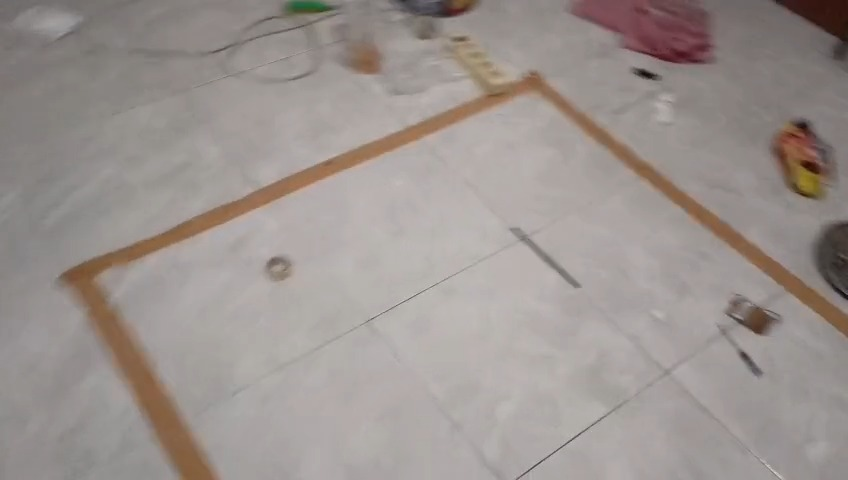floor marking: (60, 72, 847, 479)
